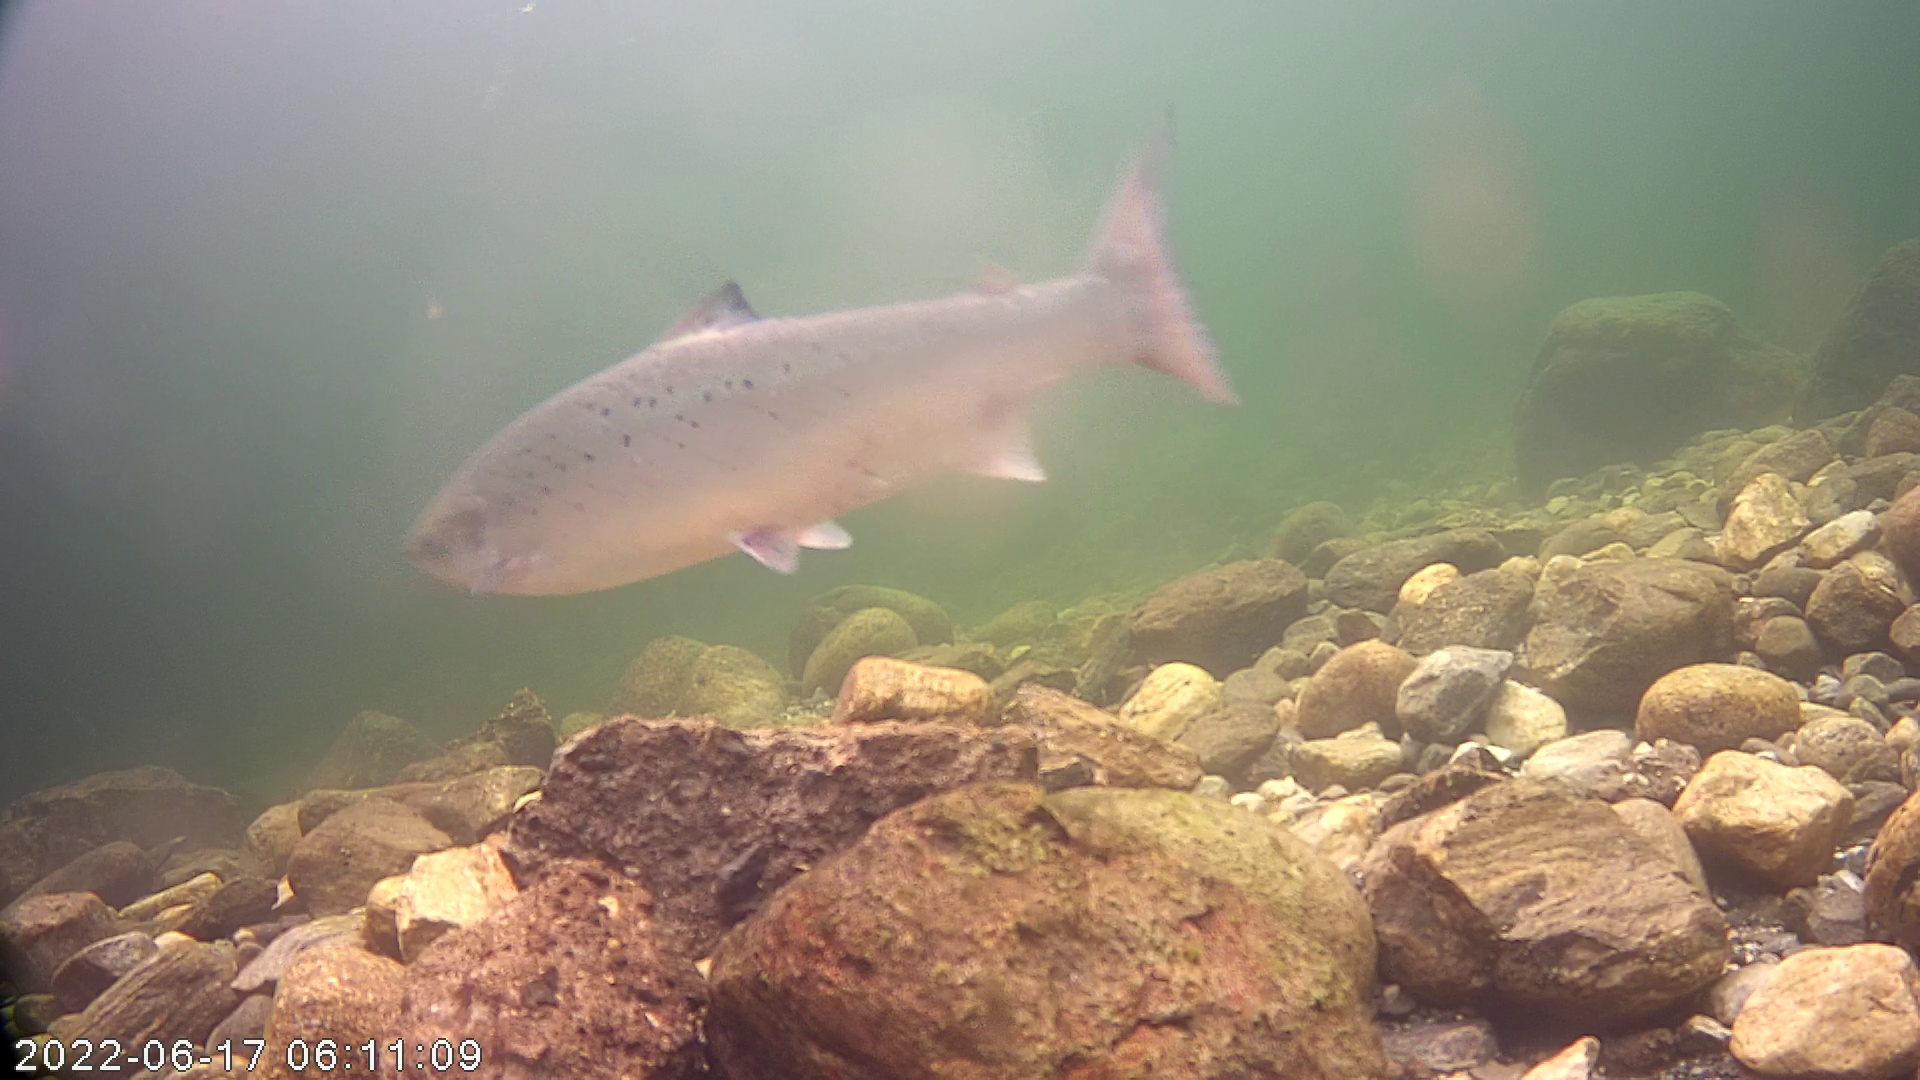salmon: (396, 135, 1251, 600)
